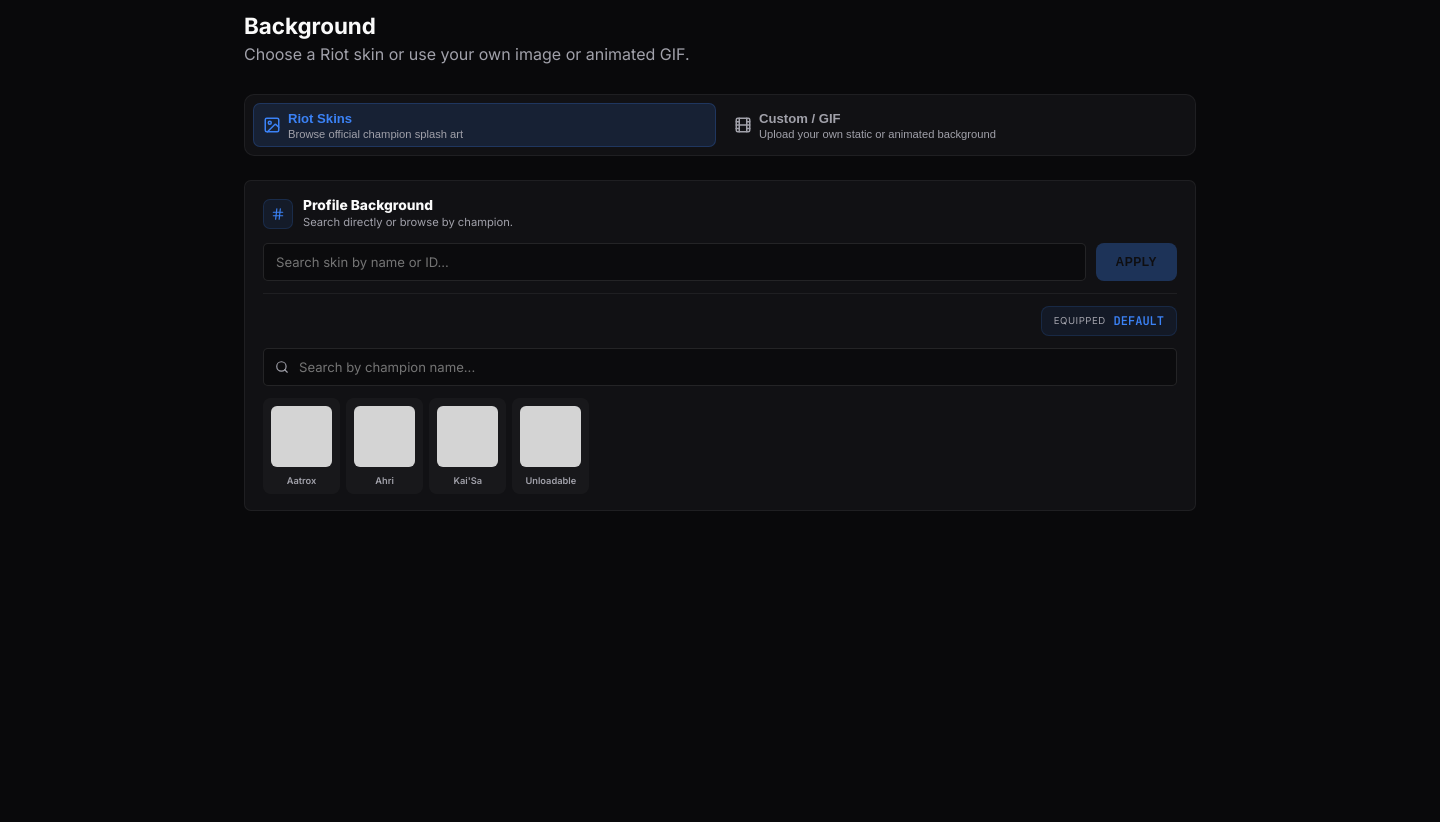
Test case: BackgroundTab › should dismiss suggestions on outside click
Check: the text "Aatrox" is shown, box [287,475,316,486]
Type "Justicar" into the field with placeholder "Search skin by name or ID...".
click(674, 262); type("Justicar")  # box [263,243,1086,281]
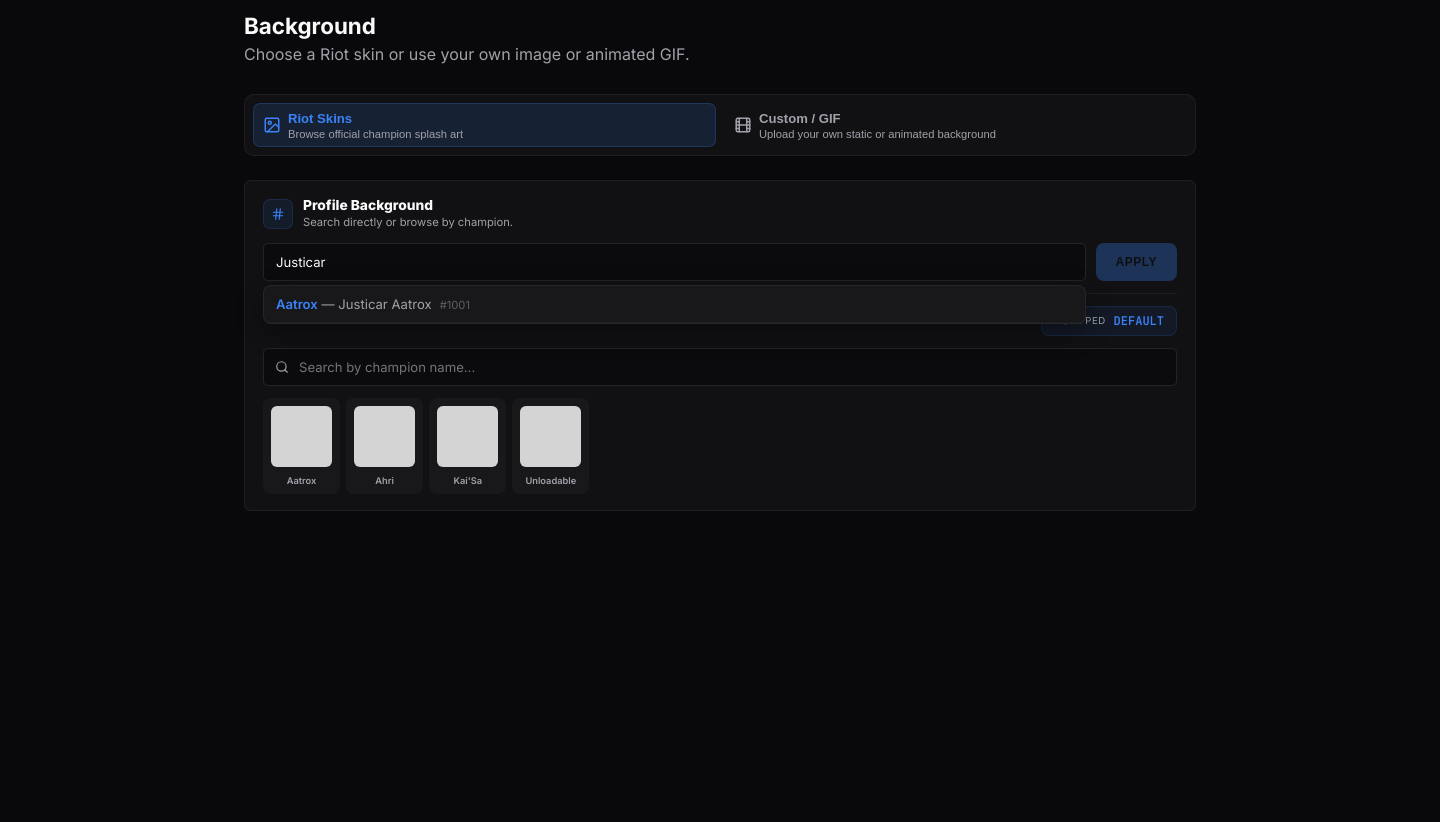
Check: the text "— Justicar Aatrox" is shown, box [318,296,432,312]
Press the mouse on the element that starts with "Background" at (720, 417), box [0,12,1439,821]
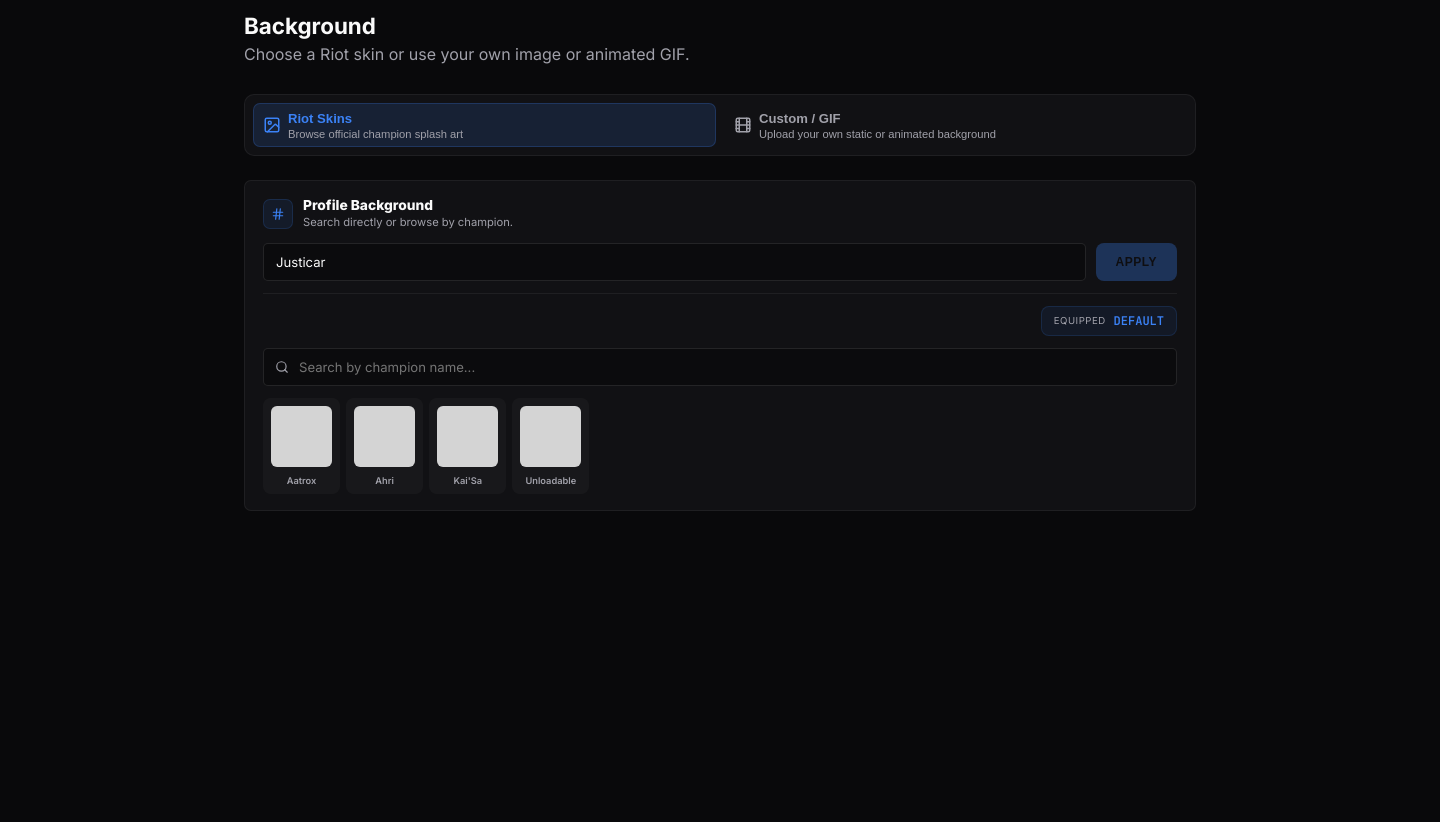
Check: the button "Justicar Aatrox" is gone
